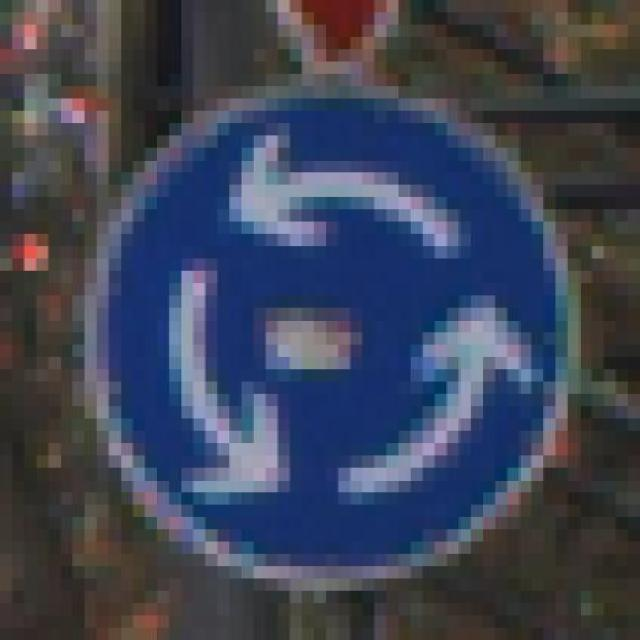Round-About: (36, 74, 592, 615)
